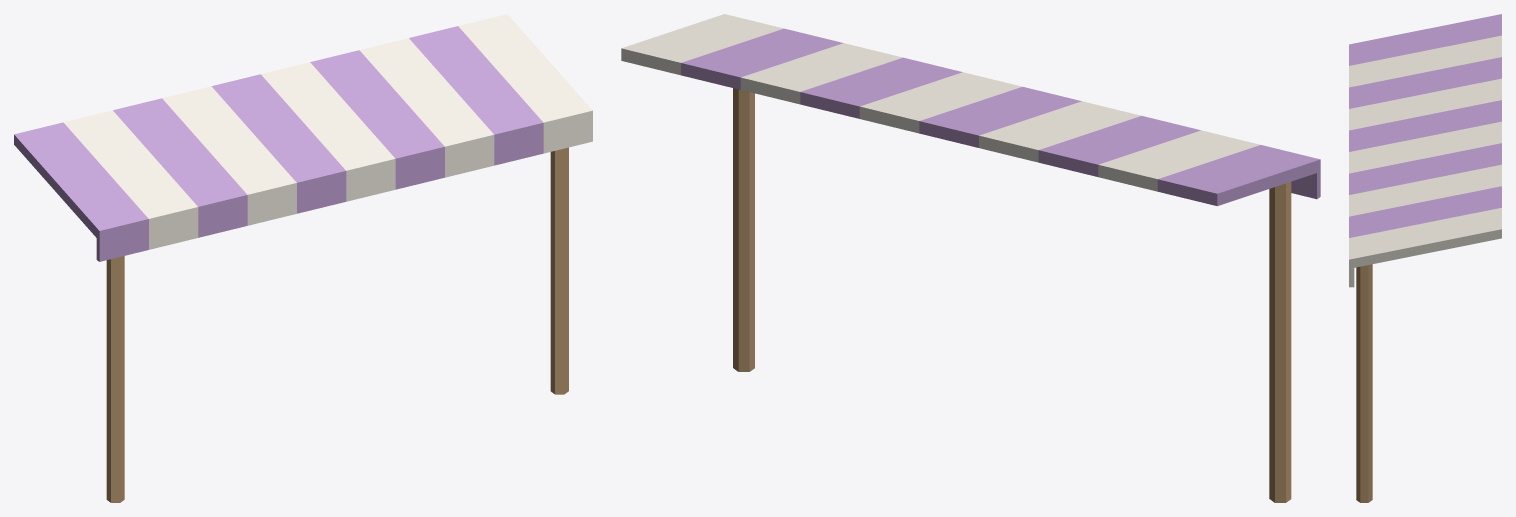
File: awning_w5_0_mint.glb
3 views of the same model, side by side, from view 1: azimuth 30°, elevation 25°; view 2: azimuth 150°, elevation 25°; view 3: azimuth 270°, elevation 25° (orthographic). The views are drawn at different scales.
Parts seen in each view (by area): view 1: Player; view 2: Player; view 3: Player.
Part boxes in pixels (left/top/right/bottom): Player: left=14, top=14, right=592, bottom=502; Player: left=621, top=14, right=1320, bottom=502; Player: left=1349, top=14, right=1501, bottom=502.
Bounding box in the file's own units: 5 × 3.05 × 1.5.
